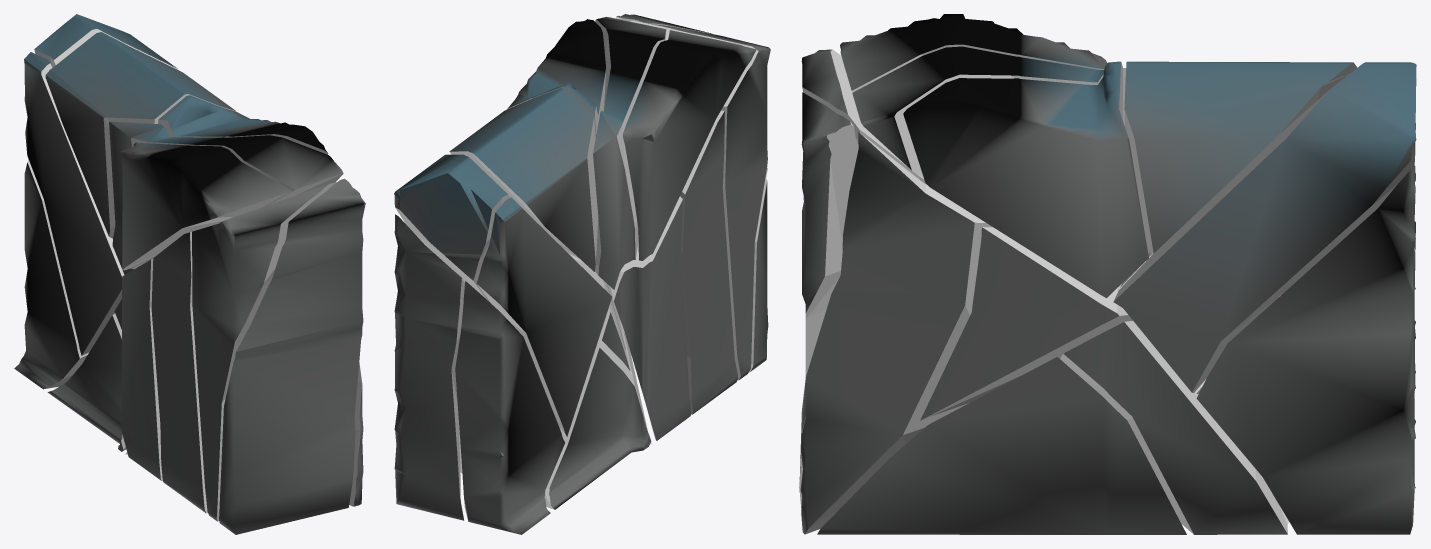
The model's file is Apartment Buildings(1).glb.
The picture shows the model from 3 angles, left to right: view 1: azimuth 30°, elevation 25°; view 2: azimuth 150°, elevation 25°; view 3: azimuth 270°, elevation 25°; orthographic projection. The views are drawn at different scales.
Visible parts, largest first — view 1: Root, Root.008, Root.013, Root.011, Root.009, Root.012, Root.015, Root.001, Root.004, Root.014, Root.005, Root.003 (+1 smaller); view 2: Root.015, Root.007, Root.011, Root.009, Root.013, Root.012, Root.004, Root.008, Root.001, Root.003, Root.014, Root.005 (+2 smaller); view 3: Root.007, Root.003, Root.002, Root.006, Root.005, Root.013, Root.014, Root.010, Root, Root.001, Root.009, Root.008.
Boxes of the visible parts, x1,y1,x2,y2 form: Root: [219, 178, 365, 534]; Root.008: [192, 182, 336, 521]; Root.013: [45, 32, 236, 238]; Root.011: [24, 52, 124, 355]; Root.009: [119, 142, 291, 270]; Root.012: [151, 232, 207, 513]; Root.015: [14, 158, 88, 389]; Root.001: [109, 121, 343, 274]; Root.004: [121, 259, 162, 480]; Root.014: [47, 313, 126, 451]; Root.005: [158, 95, 328, 154]; Root.003: [34, 14, 178, 70]; Root.015: [455, 281, 564, 534]; Root.007: [394, 214, 464, 520]; Root.011: [476, 197, 611, 436]; Root.009: [623, 30, 756, 260]; Root.013: [449, 88, 598, 271]; Root.012: [680, 110, 738, 414]; Root.004: [610, 196, 690, 440]; Root.008: [630, 20, 770, 380]; Root.001: [593, 17, 666, 289]; Root.003: [394, 154, 510, 302]; Root.014: [458, 337, 651, 509]; Root.005: [506, 19, 606, 258]; Root.007: [1196, 165, 1415, 534]; Root.003: [1113, 62, 1416, 392]; Root.002: [800, 132, 992, 534]; Root.006: [817, 357, 1186, 534]; Root.005: [903, 61, 1148, 298]; Root.013: [1124, 61, 1357, 253]; Root.014: [1060, 321, 1289, 534]; Root.010: [920, 227, 1132, 420]; Root: [799, 92, 858, 507]; Root.001: [852, 46, 1126, 177]; Root.009: [840, 14, 1107, 91]; Root.008: [801, 49, 926, 200].
Bounding box in the file's own units: 11.63 × 27.73 × 35.05.
